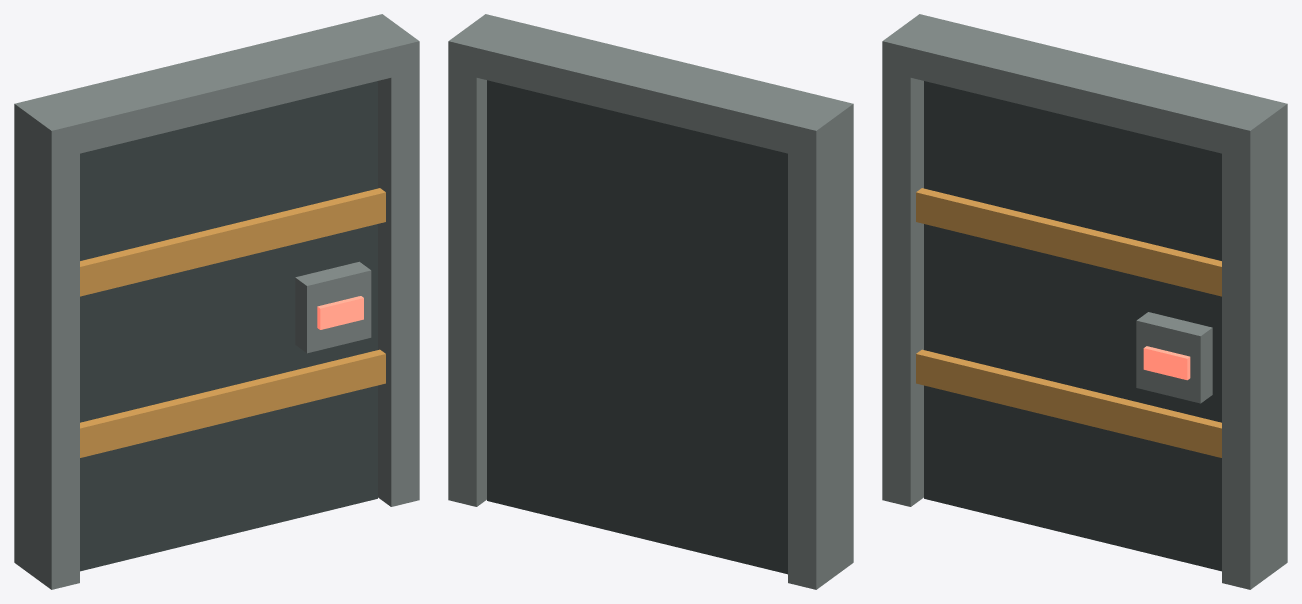
Rendered from prop_sealed_door.glb.
The picture shows the model from 3 angles, left to right: view 1: azimuth 30°, elevation 25°; view 2: azimuth 150°, elevation 25°; view 3: azimuth 330°, elevation 25°; orthographic projection.
Parts seen in each view (by area): view 1: prop_sealed_door; view 2: prop_sealed_door; view 3: prop_sealed_door.
Part boxes in pixels (<box>): prop_sealed_door: <box>14,14,419,589</box>; prop_sealed_door: <box>448,14,853,589</box>; prop_sealed_door: <box>882,14,1287,589</box>.
Bounding box in the file's own units: 2.86 × 3.41 × 0.55.
